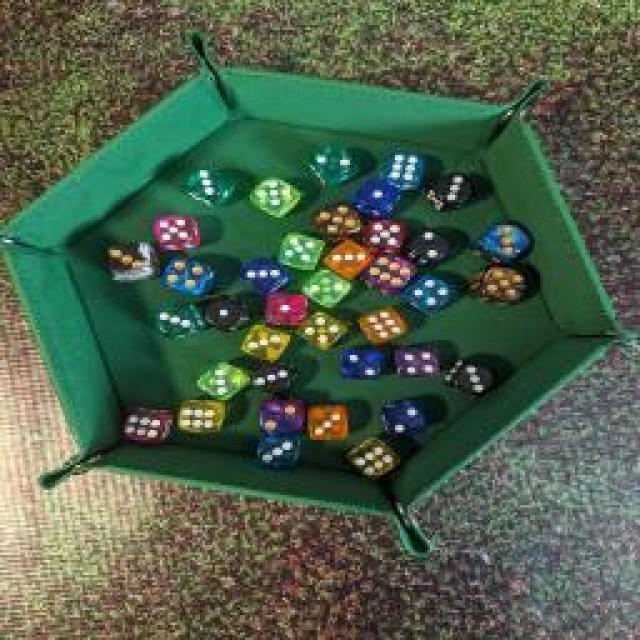dice_1: (198, 289, 260, 336), (350, 179, 400, 216), (264, 292, 308, 326)
dice_2: (292, 264, 358, 318), (302, 140, 358, 188), (376, 396, 432, 439), (402, 224, 460, 264), (336, 342, 389, 382), (254, 399, 306, 436)
dice_3: (469, 221, 541, 269), (188, 359, 254, 409), (95, 239, 160, 286), (180, 164, 238, 211), (319, 236, 376, 279), (234, 322, 298, 360), (422, 170, 480, 210), (245, 359, 303, 399), (235, 255, 290, 297), (247, 430, 305, 468), (445, 356, 497, 396), (304, 402, 351, 446), (151, 305, 204, 343)
dice_4: (158, 255, 224, 297), (292, 308, 352, 352), (400, 274, 455, 316), (396, 342, 444, 380)
dice_5: (468, 258, 530, 314), (147, 208, 205, 254), (250, 172, 302, 218), (273, 230, 325, 272), (309, 202, 361, 240)
dice_6: (340, 438, 402, 482), (354, 301, 411, 344), (354, 254, 414, 294), (175, 398, 233, 438), (378, 152, 428, 190), (125, 405, 170, 443)
